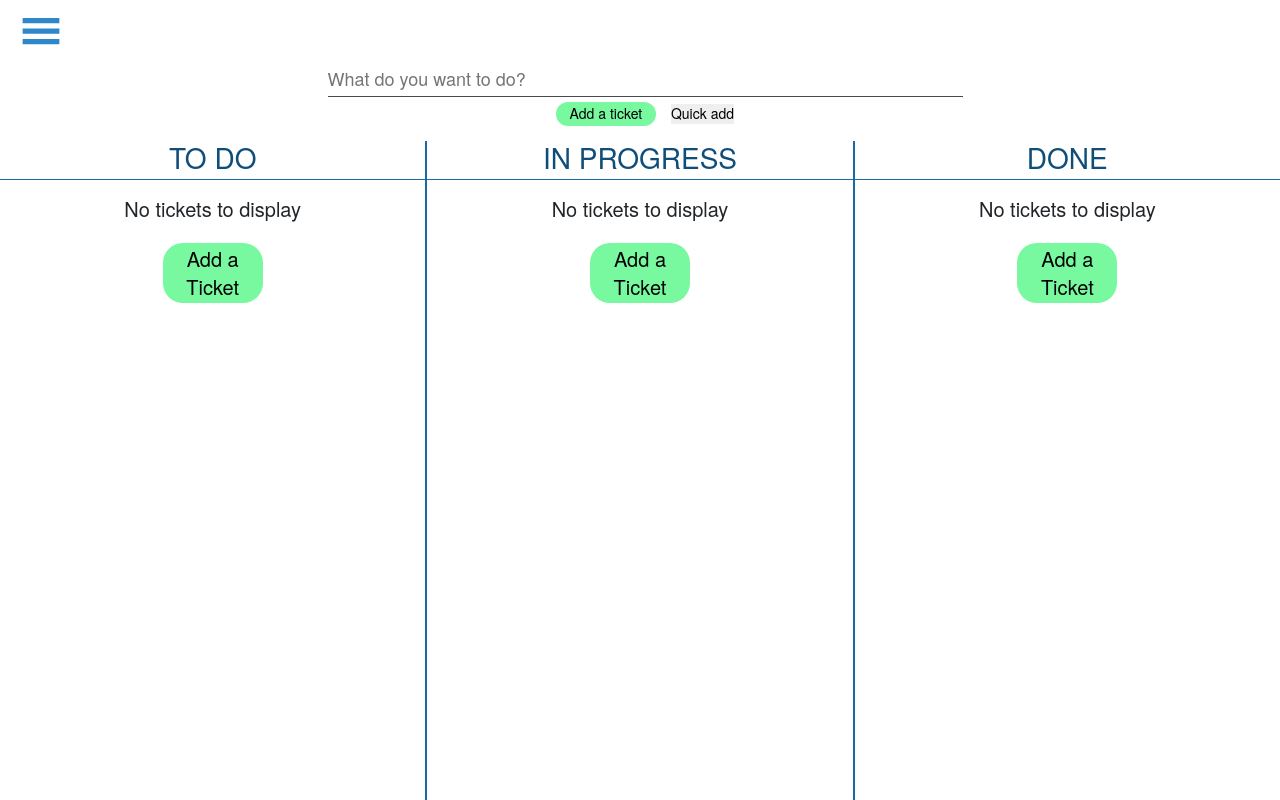
it: Checks adding ticket functions › modal section › empty column button opens up add ticket modal
Click the button with test id "empty-column-btn" below "TO DO": (213, 273) [163, 243, 263, 303]
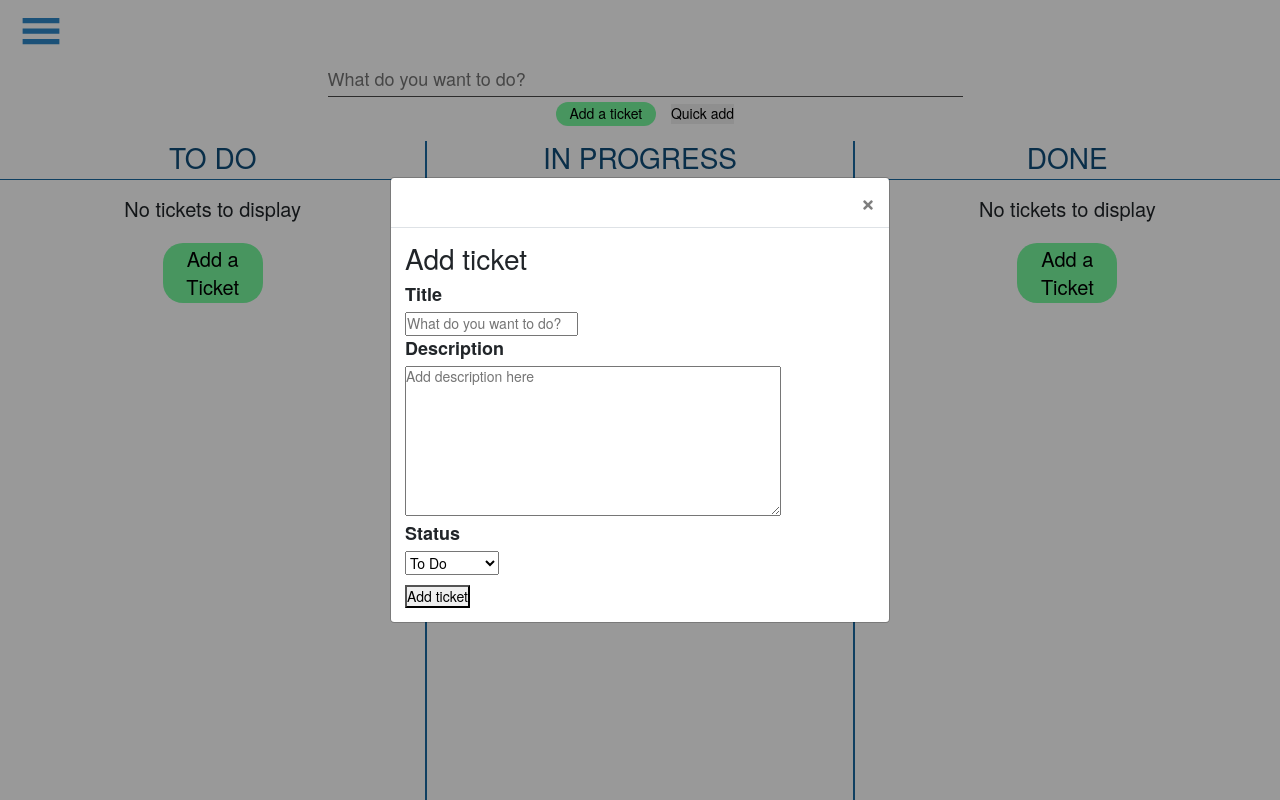
Result: the element with test id "modal-content" is shown at [390, 177, 890, 624]
Result: the heading with test id "modal-title" reads "Add ticket" at [405, 238, 527, 278]
